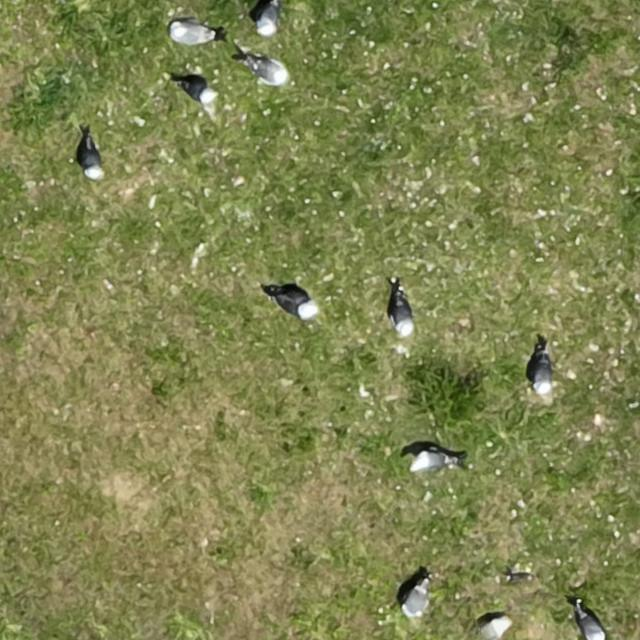umineko: (406, 572, 435, 618), (276, 292, 313, 317), (254, 59, 288, 82), (394, 296, 414, 335), (172, 24, 211, 44), (481, 618, 520, 638), (182, 80, 214, 104), (83, 143, 102, 179), (580, 612, 604, 640), (534, 357, 552, 394), (258, 2, 278, 34), (413, 452, 447, 469)
